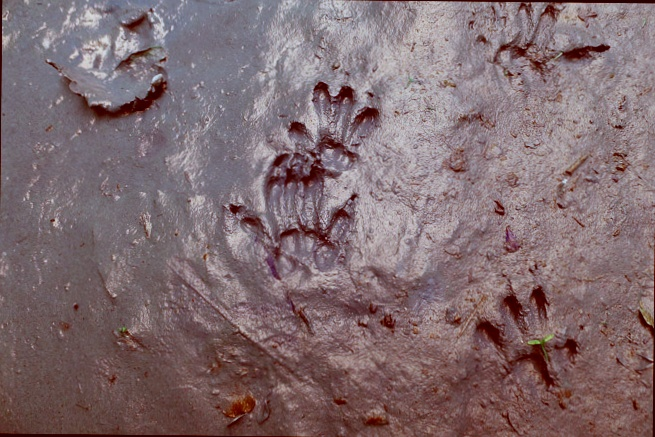ecureuil: (263, 67, 438, 336), (52, 247, 206, 437), (29, 1, 204, 105)
